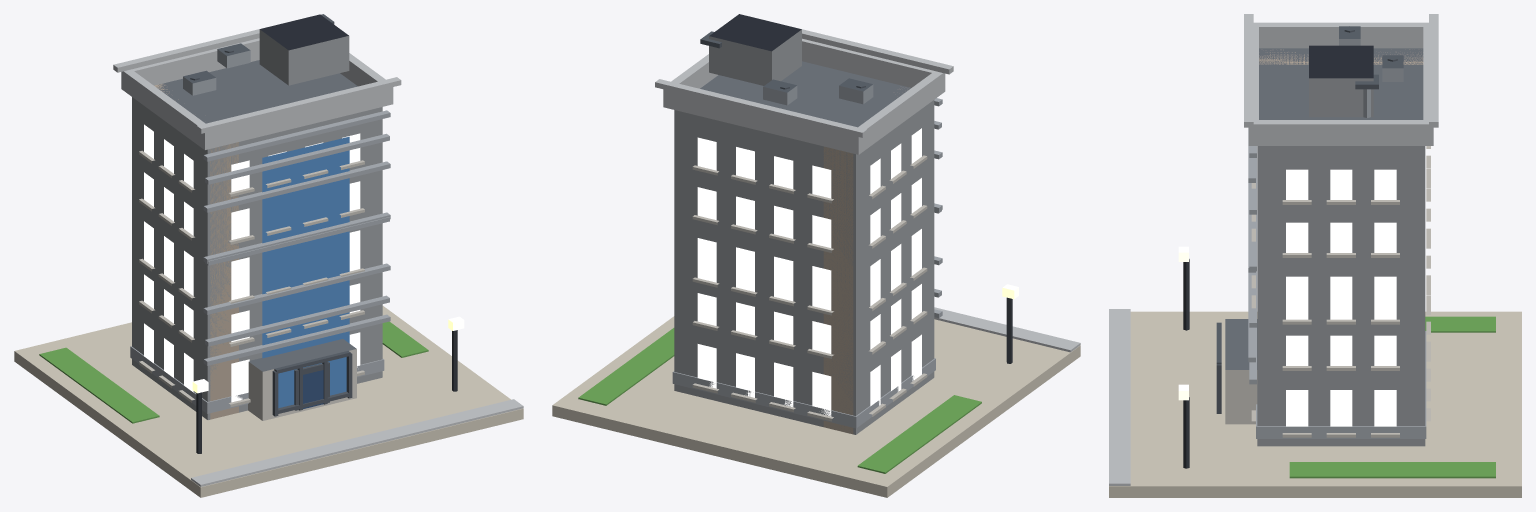
3 renders of one model, left to right at view 1: azimuth 30°, elevation 25°; view 2: azimuth 150°, elevation 25°; view 3: azimuth 270°, elevation 25°, orthographic. The views are drawn at different scales.
Visible parts, largest first — view 1: b16_v2; view 2: b16_v2; view 3: b16_v2.
Part boxes in pixels (left/top/right/bottom): b16_v2: left=14, top=14, right=523, bottom=497; b16_v2: left=552, top=14, right=1080, bottom=497; b16_v2: left=1109, top=14, right=1521, bottom=497.
Size of the model in its own units: 0.96 by 0.96 by 0.96.
